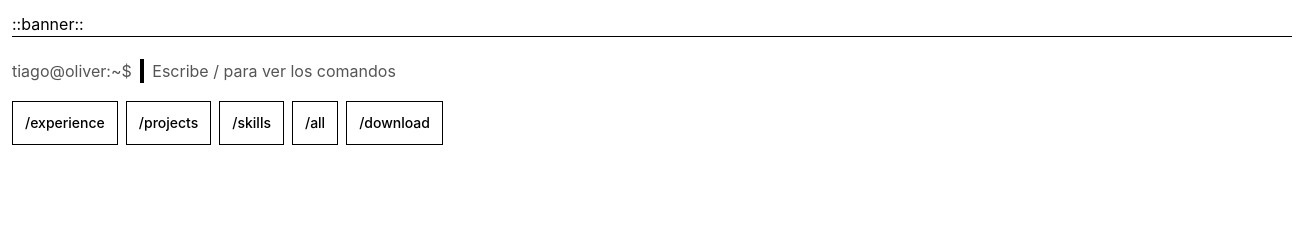
Scenario: Terminal › Given the spanish site, should prompt and reply in spanish
Type "xyz" into the dropdown named "Comando" at {"x": 716, "y": 71}, box left=140, top=49, right=1292, bottom=93
Then press Enter
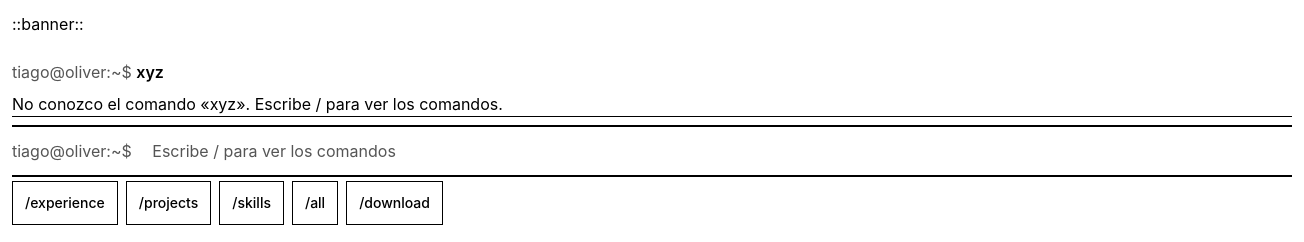
Result: the text "No conozco el comando «xyz». Escribe / para ver los comandos." is shown at left=12, top=94, right=503, bottom=114
